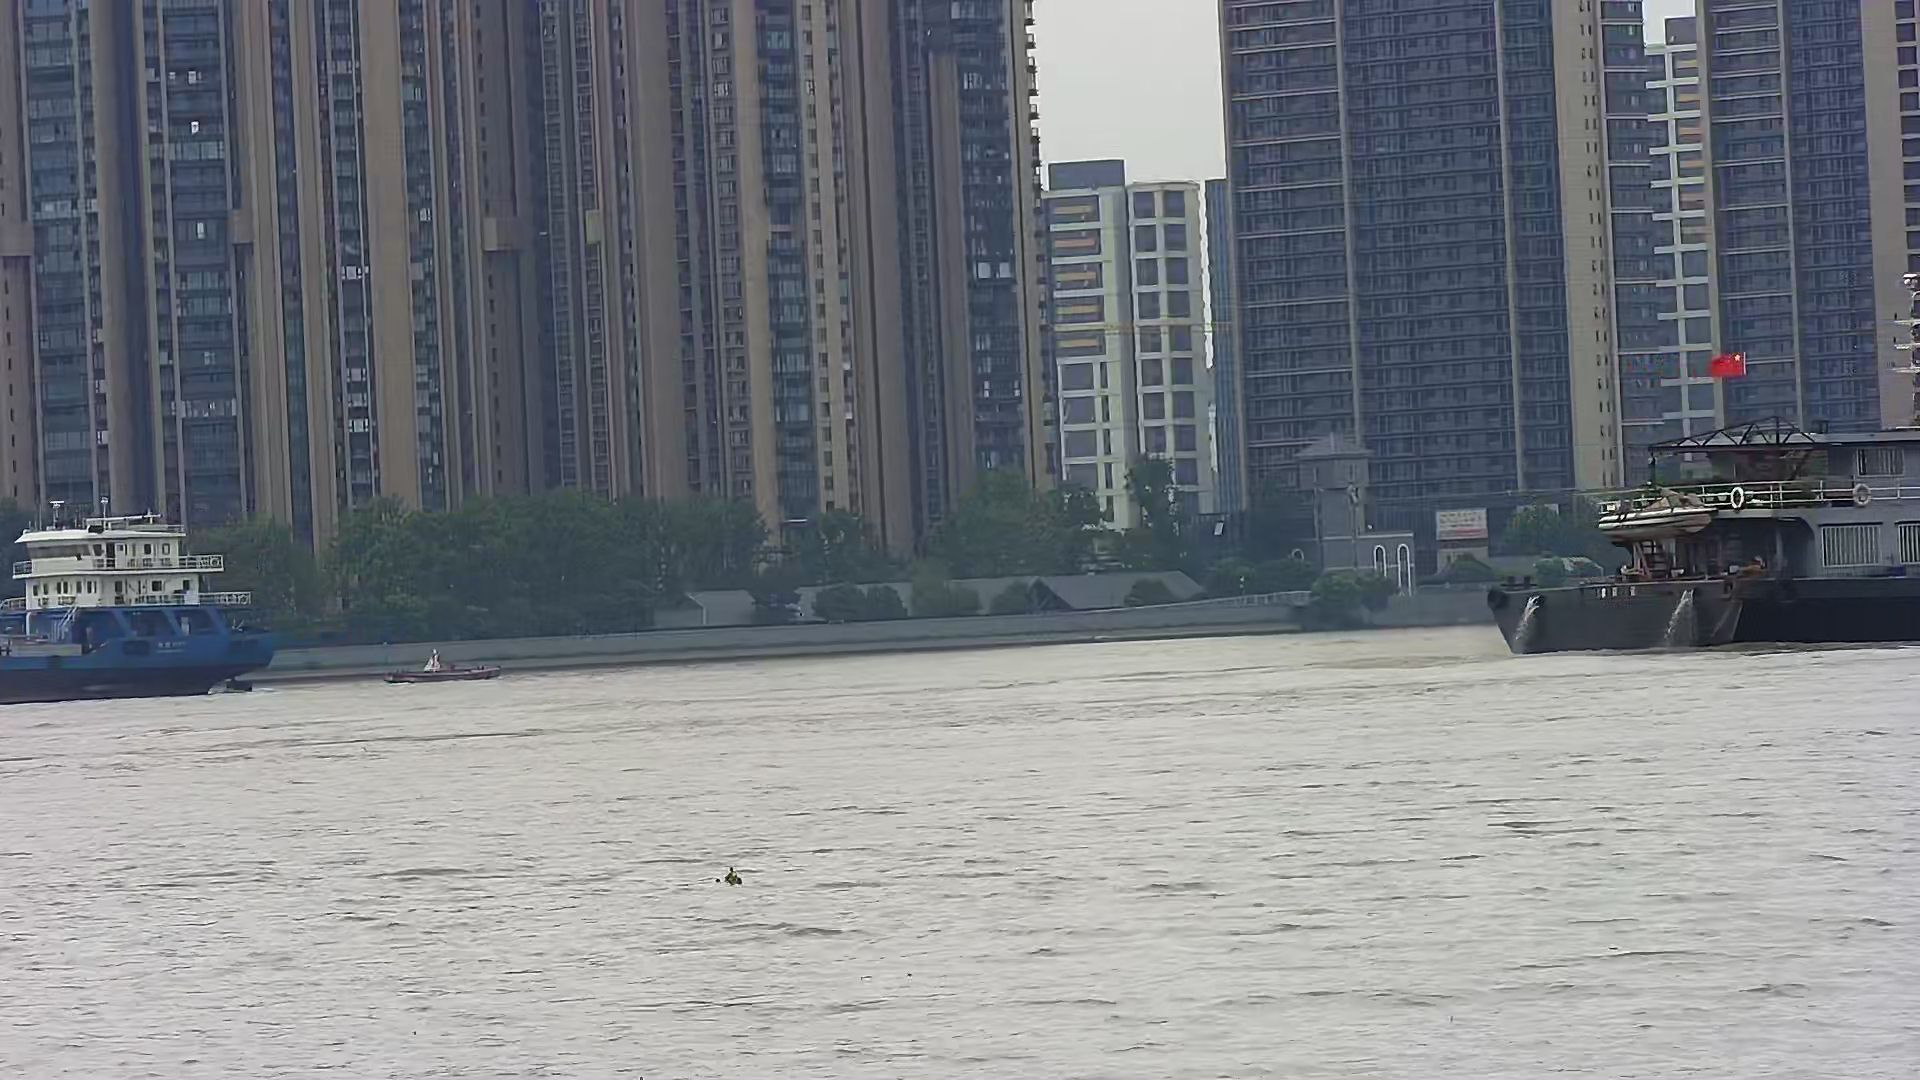boat: (378, 642, 506, 688)
rubbish: (700, 855, 766, 894)
ship: (1460, 339, 1920, 694), (1, 487, 291, 716)
